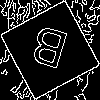B: (25, 25, 71, 78)
